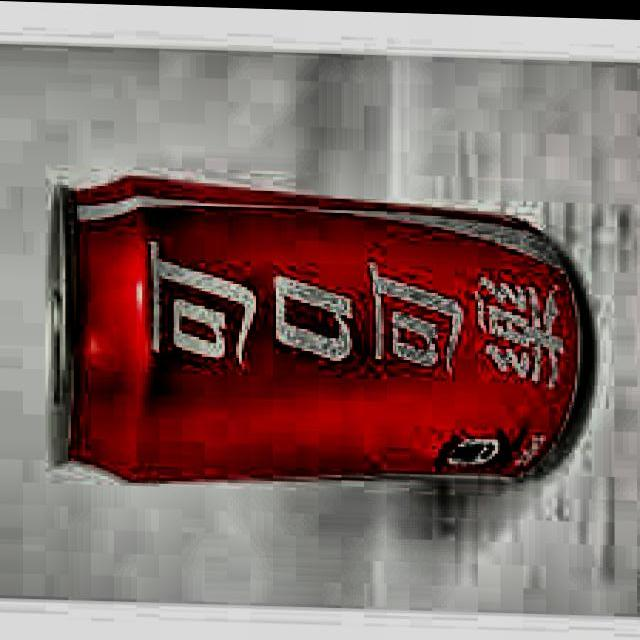litter: (32, 156, 594, 503)
